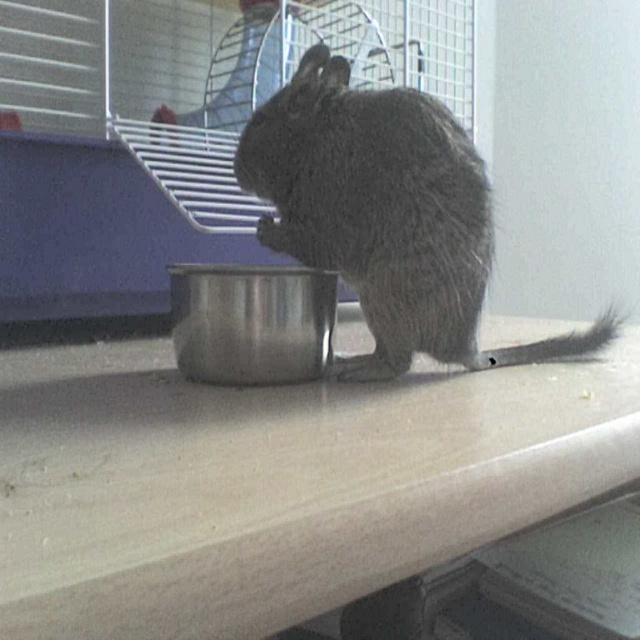Mouse: (233, 44, 640, 382)
